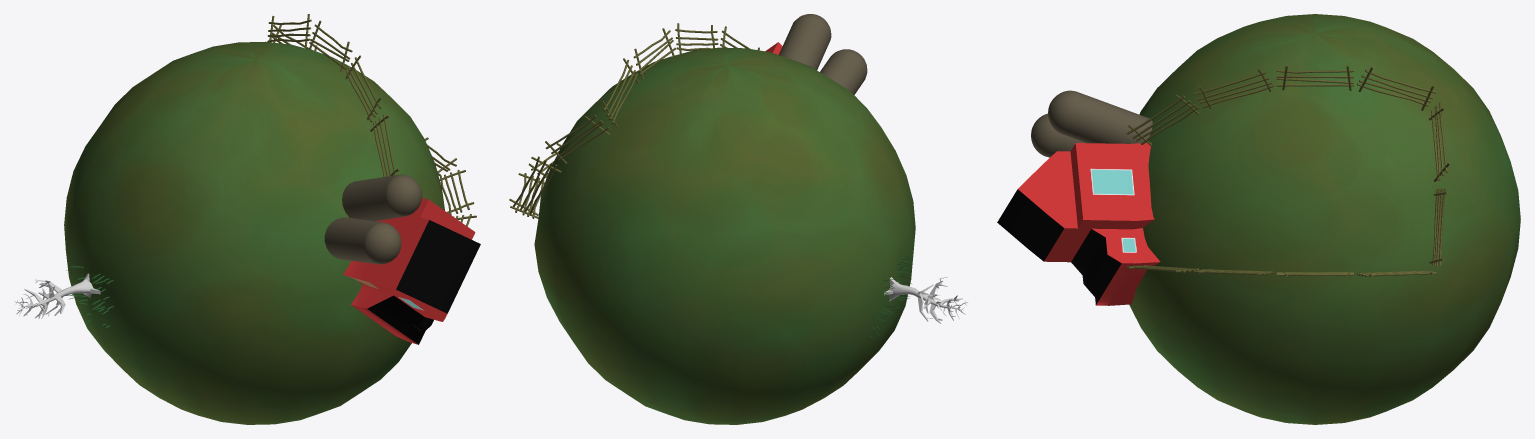
File: farmPlanet.fbx
3 views of the same model, side by side, from view 1: azimuth 30°, elevation 25°; view 2: azimuth 150°, elevation 25°; view 3: azimuth 270°, elevation 25° (orthographic). The views are drawn at different scales.
Parts seen in each view (by area): view 1: greenPlanet, farmHouse1, Silo, Silo1, treeFlex1; view 2: greenPlanet, Silo, Silo1, treeFlex1; view 3: greenPlanet, farmHouse1, Silo, Silo1.
Part boxes in pixels (x1,y1,x2,y2): greenPlanet: [64, 41, 444, 424]; farmHouse1: [343, 198, 480, 344]; Silo: [342, 174, 422, 221]; Silo1: [324, 217, 401, 264]; treeFlex1: [15, 273, 100, 318]; greenPlanet: [534, 47, 915, 424]; Silo: [779, 14, 831, 70]; Silo1: [820, 49, 867, 94]; treeFlex1: [884, 277, 967, 323]; greenPlanet: [1129, 14, 1520, 424]; farmHouse1: [997, 142, 1160, 305]; Silo: [1048, 90, 1152, 143]; Silo1: [1031, 113, 1085, 157].
Size of the model in its own units: 99.25 by 78.45 by 97.56.
